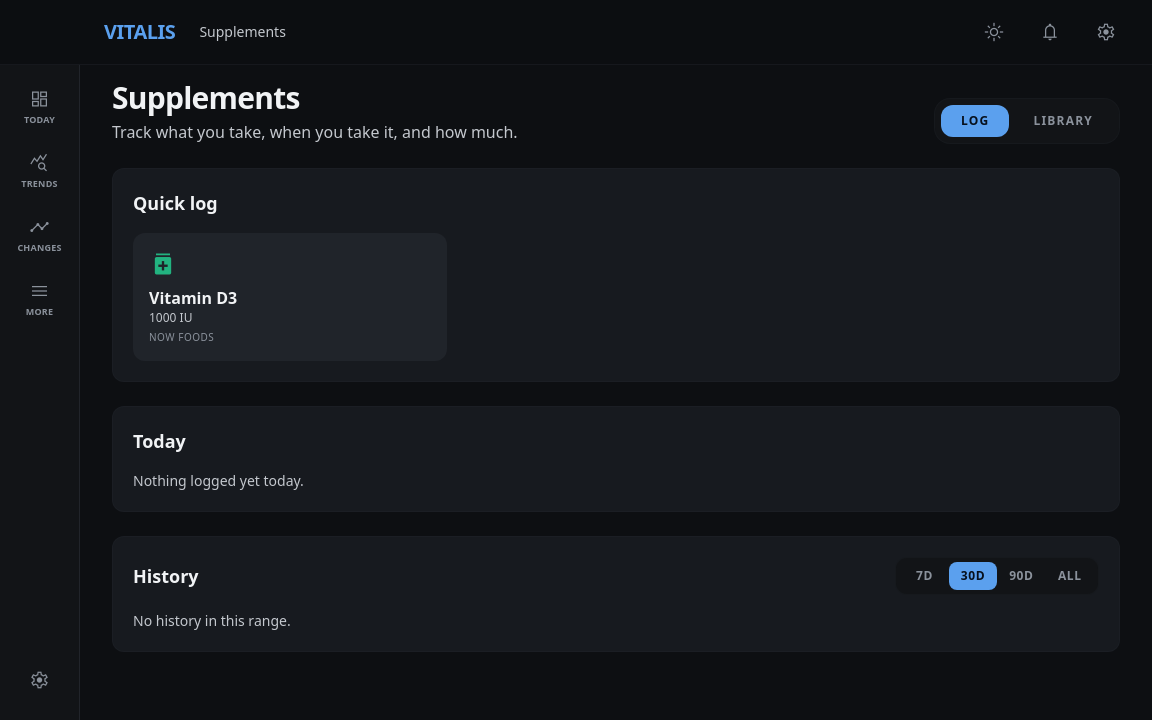
Scenario: Supplements page › renders quick-log cards for active supplements and opens the confirm sheet on click
The width and height of the screenshot is (1152, 720).
Note: Wait for the quick-log card to appear and tap it.
Click the button "Vitamin D3 1000 IU Now Foods". click: (193, 298)
box: [133,233,447,361]
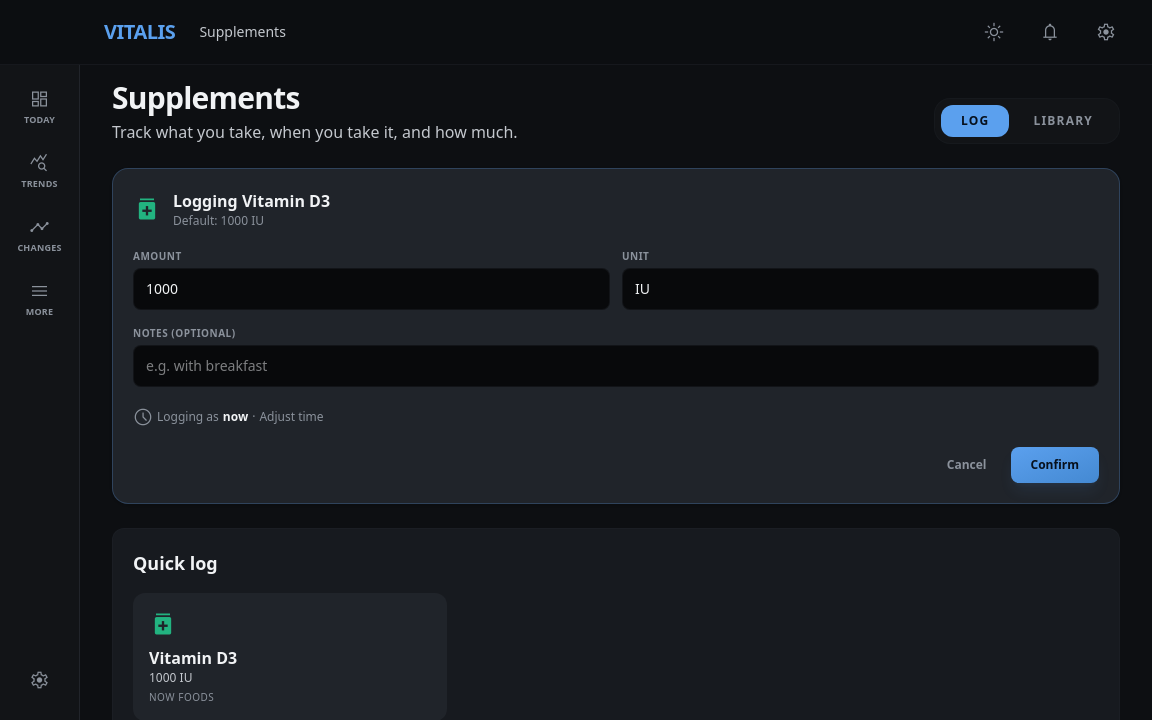
Now the heading "Logging Vitamin D3" is shown, box [173,189,330,213]
Now the number field labelled "Amount" holds "1000", box [133,268,610,310]
Now the field labelled "Unit" holds "IU", box [622,268,1099,310]
